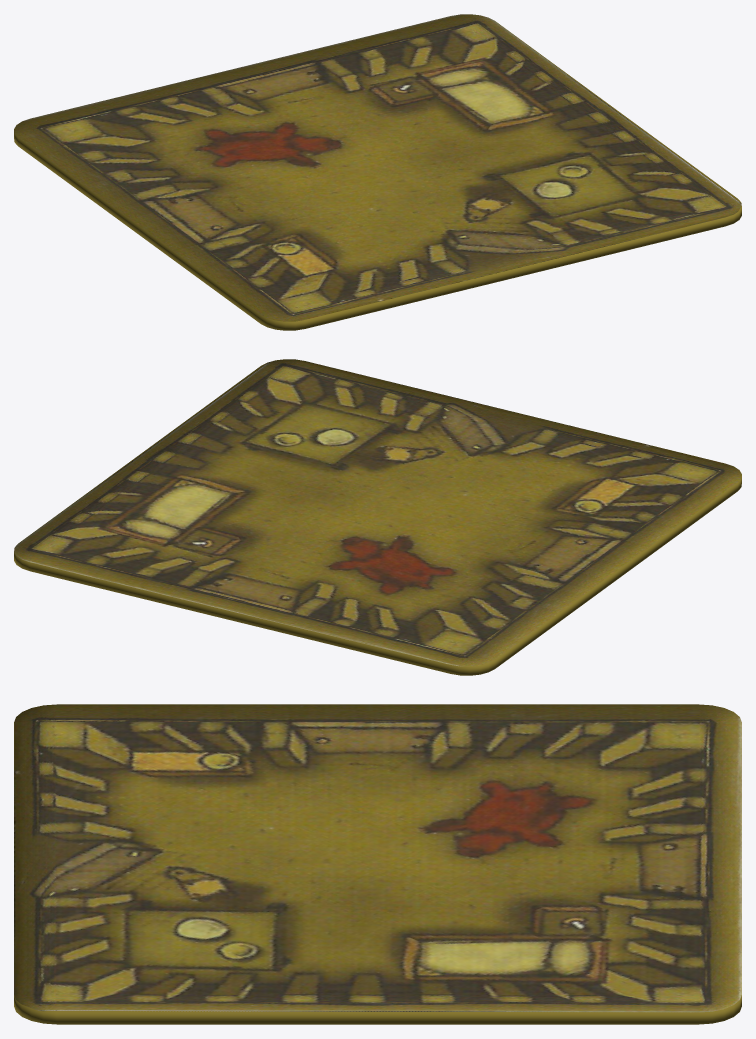
Rendered from tile.fbx.
The picture shows the model from 3 angles, top to bottom: view 1: azimuth 30°, elevation 25°; view 2: azimuth 150°, elevation 25°; view 3: azimuth 270°, elevation 25°; orthographic projection. The views are drawn at different scales.
Visible parts, largest first — view 1: Cylinder; view 2: Cylinder; view 3: Cylinder.
Part boxes in pixels (x1,y1,x2,y2): Cylinder: [14, 14, 741, 330]; Cylinder: [14, 359, 741, 675]; Cylinder: [14, 704, 741, 1024].
Bounding box in the file's own units: 2 × 0.0362 × 2.
